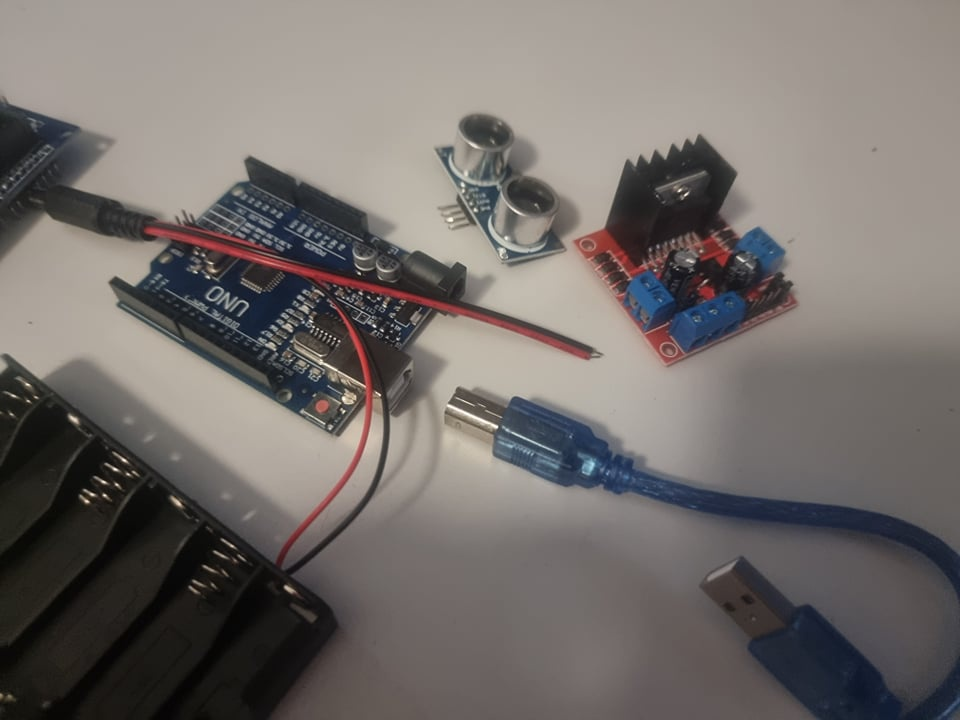BATTERY BOX: (1, 351, 341, 720)
MOTOR: (580, 125, 809, 369)
SENSOR: (435, 99, 568, 263)
UNO R3: (111, 155, 468, 438)
